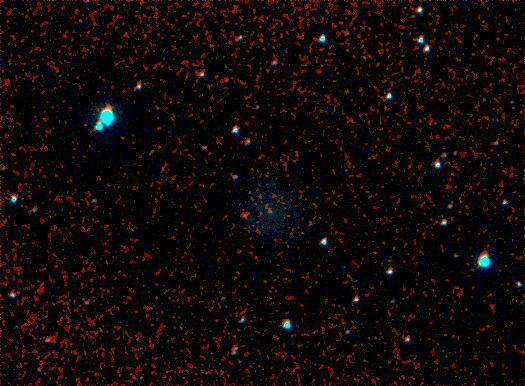star: (230, 201, 260, 231)
